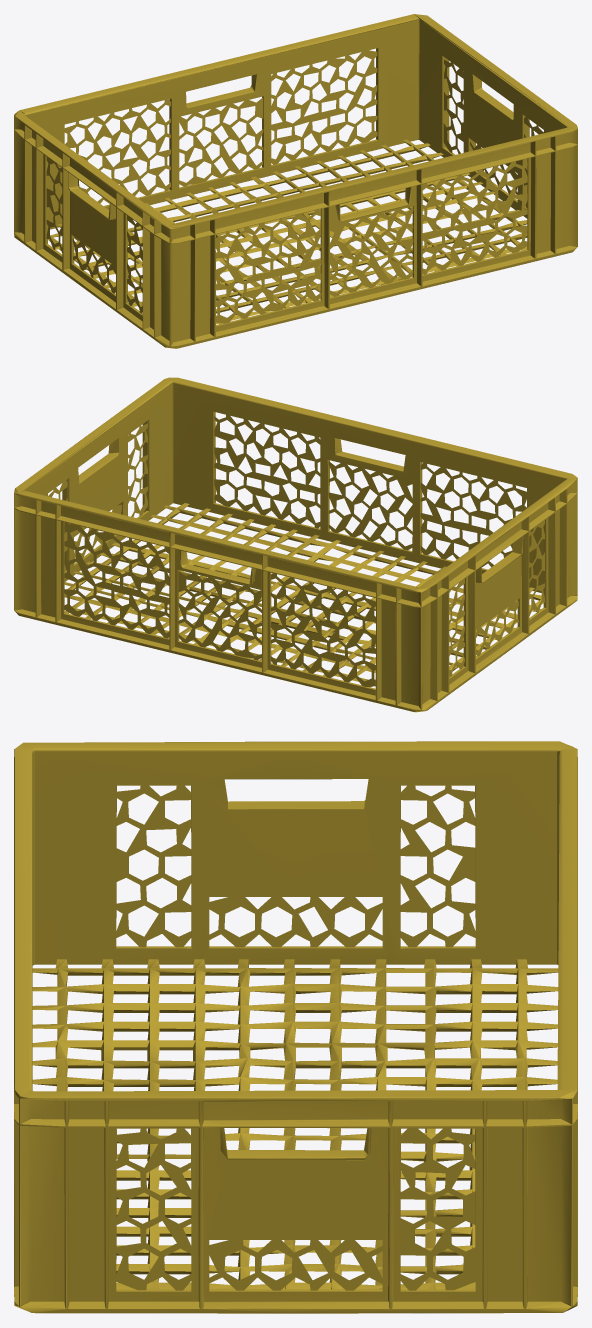
File: tote_yellow.glb
The picture shows the model from 3 angles, top to bottom: view 1: azimuth 30°, elevation 25°; view 2: azimuth 150°, elevation 25°; view 3: azimuth 270°, elevation 25°; orthographic projection. The views are drawn at different scales.
Visible parts, largest first — view 1: tote_yellow_mesh; view 2: tote_yellow_mesh; view 3: tote_yellow_mesh.
Boxes of the visible parts, x1,y1,x2,y2 form: tote_yellow_mesh: (14, 14, 577, 348); tote_yellow_mesh: (14, 377, 577, 712); tote_yellow_mesh: (14, 741, 577, 1313).
Size of the model in its own units: 0.6015 by 0.17 by 0.4018.
